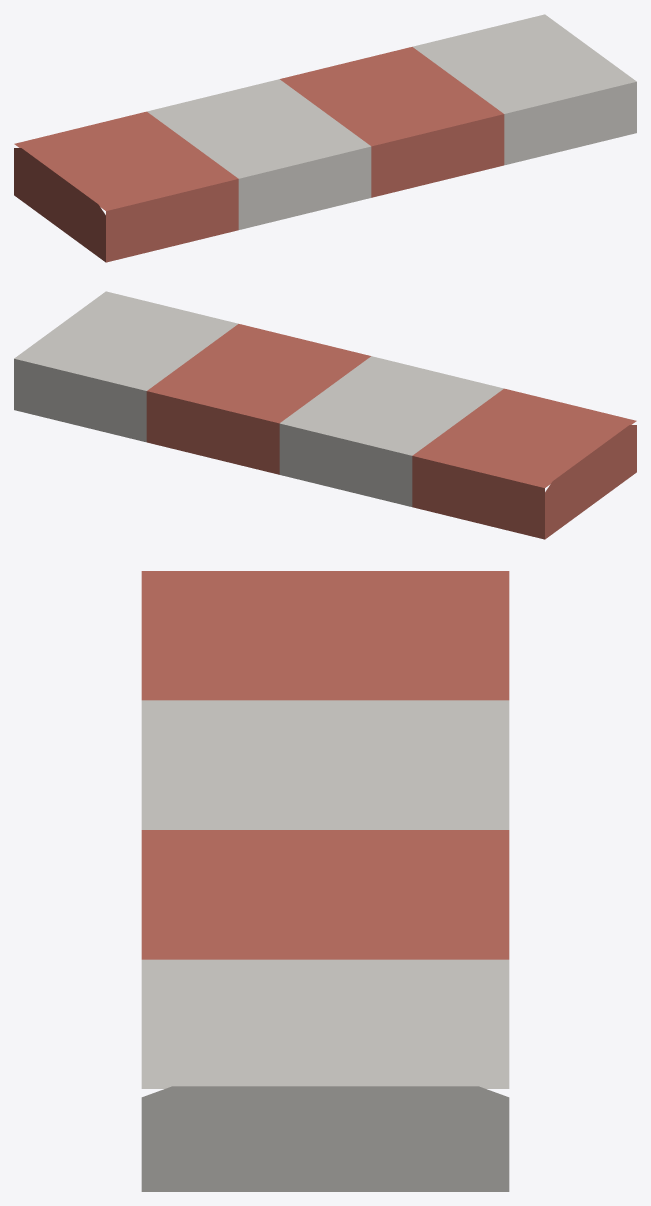
File: kerb.lod1.glb
3 renders of one model, top to bottom at view 1: azimuth 30°, elevation 25°; view 2: azimuth 150°, elevation 25°; view 3: azimuth 270°, elevation 25°, orthographic. The views are drawn at different scales.
Bounding box in the file's own units: 4 × 0.38 × 1.2.
